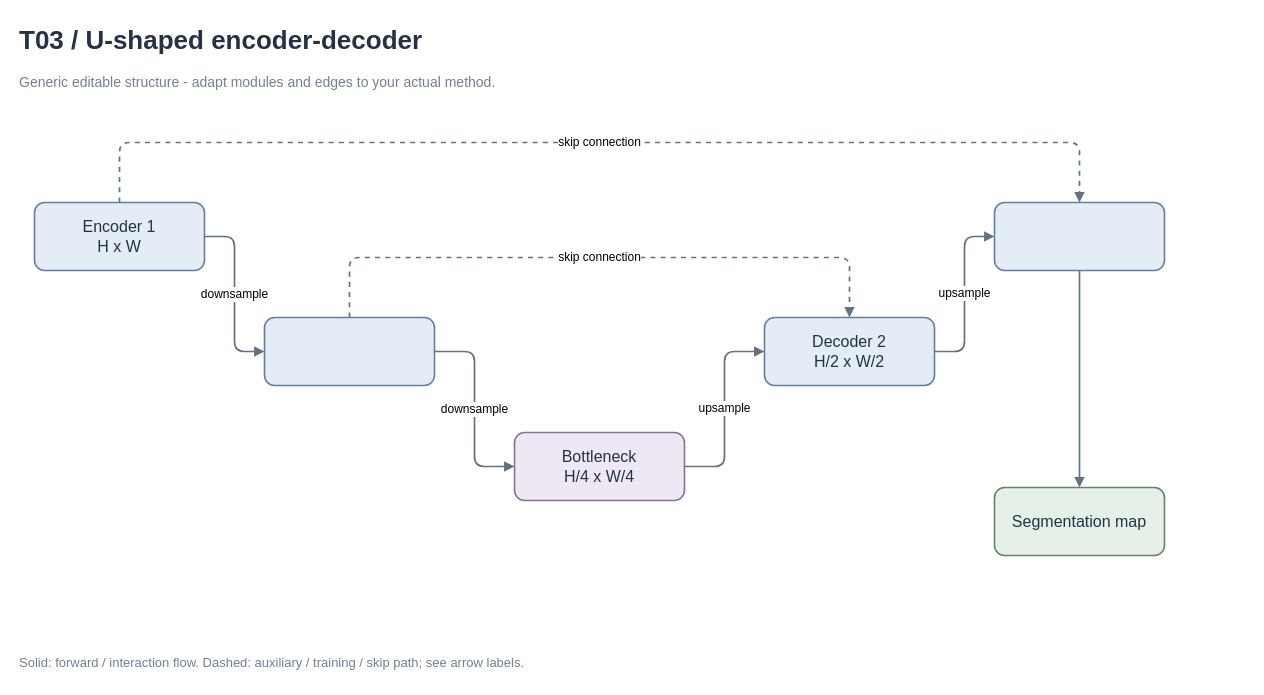
Image size: 1264x695. Some labels were removed from this diagram. The box of each missing label's shape, as (x1, y1, x2, y2) in pixels:
Decoder 1 H x W: (993, 201, 1165, 271)
Encoder 2 H/2 x W/2: (263, 316, 435, 386)
